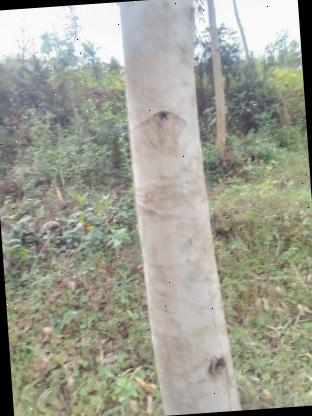tree: (105, 0, 250, 416)
